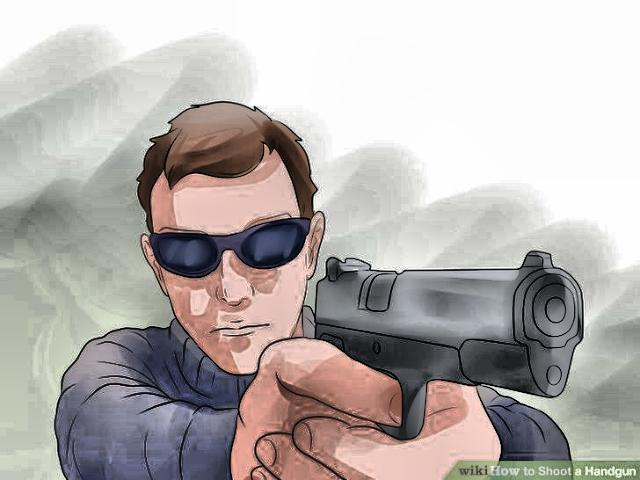pistol: (302, 250, 586, 440)
